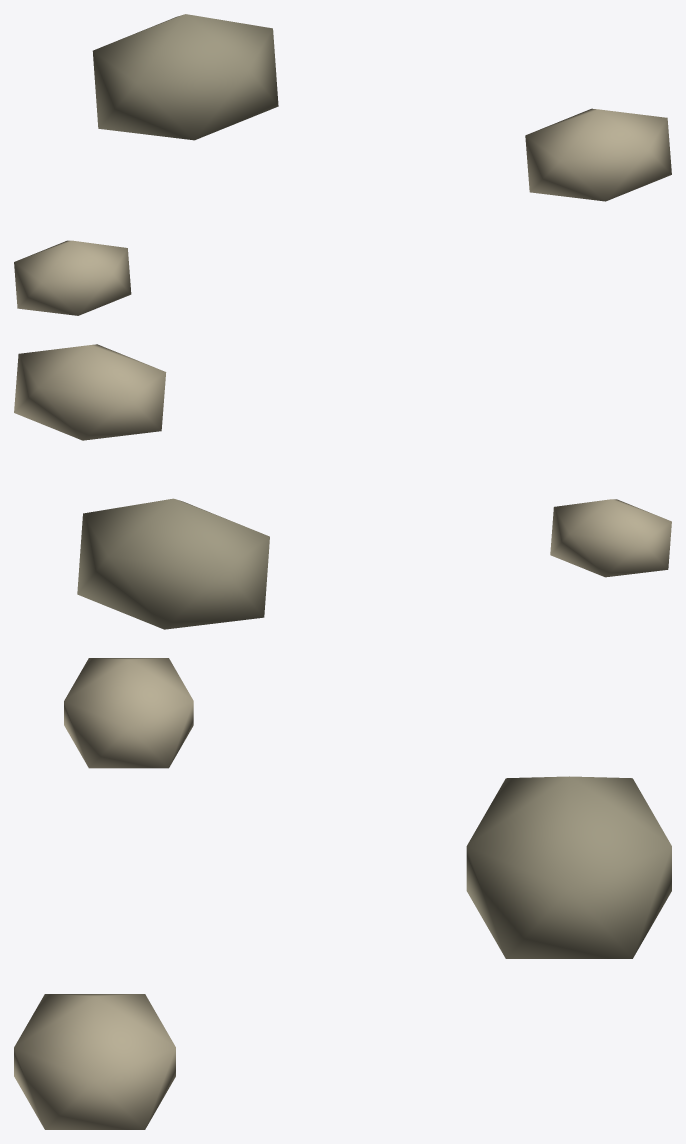
The model's file is wild_pebbles_b.glb.
3 renders of one model, top to bottom at view 1: azimuth 30°, elevation 25°; view 2: azimuth 150°, elevation 25°; view 3: azimuth 270°, elevation 25°, orthographic. The views are drawn at different scales.
Parts seen in each view (by area): view 1: wild_pebbles_b; view 2: wild_pebbles_b; view 3: wild_pebbles_b.
Part boxes in pixels (x1=…): wild_pebbles_b: x1=14, y1=14, x2=671, y2=315; wild_pebbles_b: x1=14, y1=344, x2=671, y2=629; wild_pebbles_b: x1=14, y1=658, x2=671, y2=1129.
Size of the model in its own units: 0.6207 by 0.108 by 0.3885.
